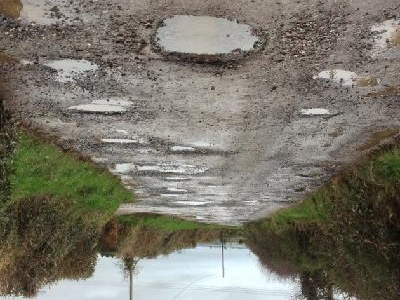pothole: (149, 12, 268, 67), (307, 69, 379, 93), (36, 57, 103, 82), (364, 15, 400, 56), (161, 143, 235, 158), (64, 103, 127, 116), (297, 107, 343, 120), (109, 163, 135, 175), (158, 186, 192, 195)
